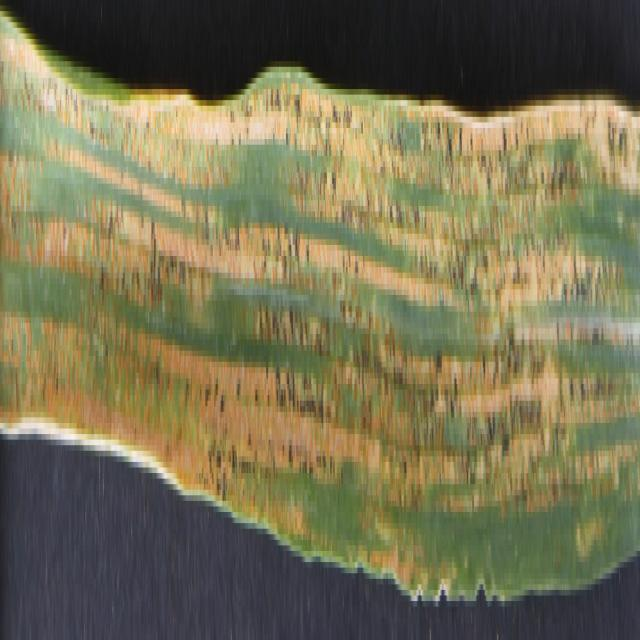leaf rust: (1, 11, 638, 579)
